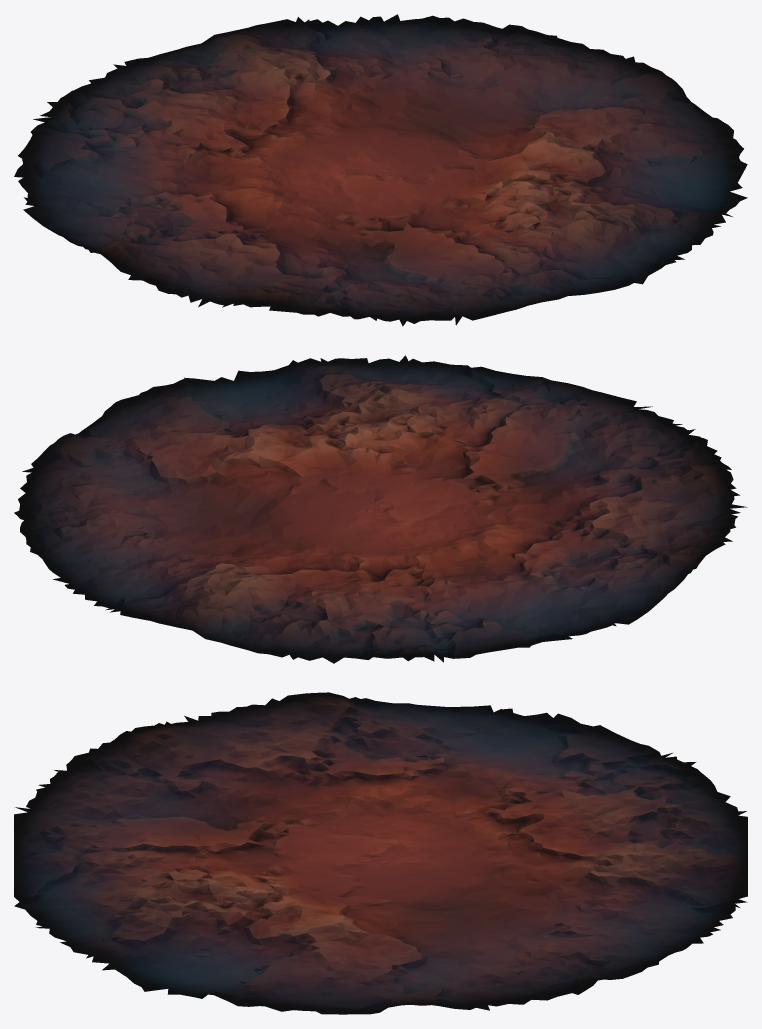
The model's file is mars.glb.
3 views of the same model, one above another, from view 1: azimuth 30°, elevation 25°; view 2: azimuth 150°, elevation 25°; view 3: azimuth 270°, elevation 25° (orthographic). The views are drawn at different scales.
Parts seen in each view (by area): view 1: Landscape; view 2: Landscape; view 3: Landscape.
Boxes of the visible parts, x1,y1,x2,y2 form: Landscape: (14, 14, 747, 326); Landscape: (14, 355, 747, 663); Landscape: (14, 692, 747, 1014).
Bounding box in the file's own units: 8 × 0.229 × 8.
